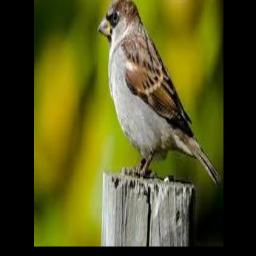Sparrow: (98, 0, 221, 183)
